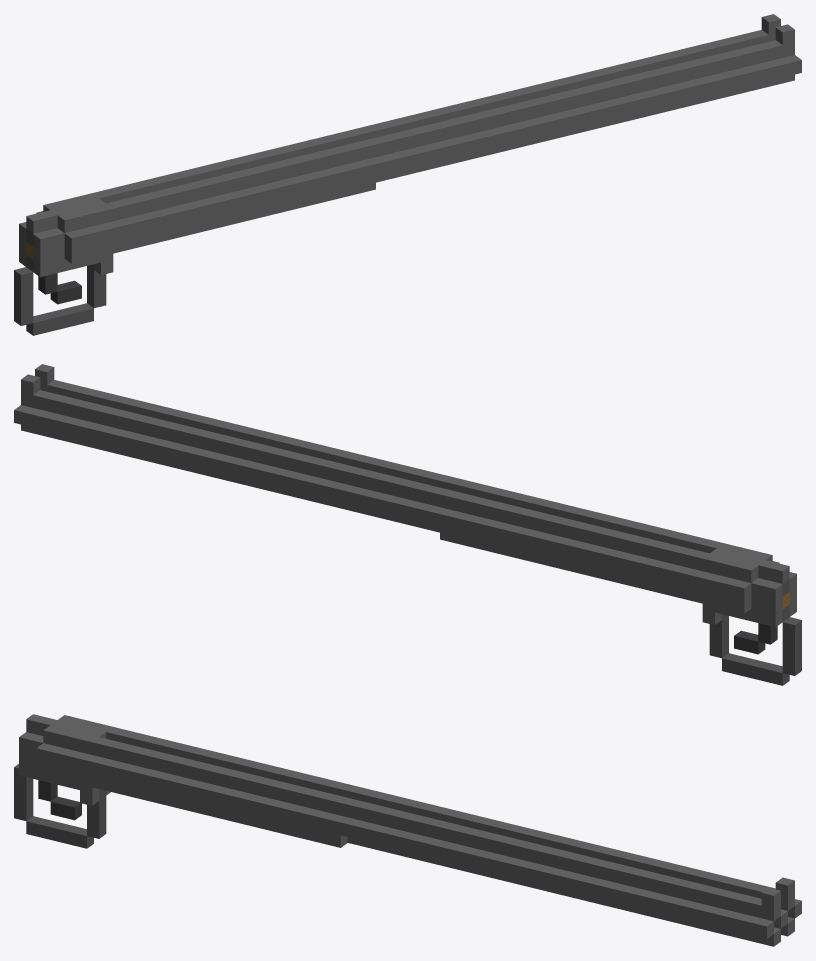
Rendered from DOOM_DoubleBarrelShotgunShort_Metal.obj.
The picture shows the model from 3 angles, top to bottom: view 1: azimuth 30°, elevation 25°; view 2: azimuth 150°, elevation 25°; view 3: azimuth 330°, elevation 25°; orthographic projection.
Bounding box in the file's own units: 6.3 × 1 × 0.5.
Materials: 1 (1 with a texture image).
